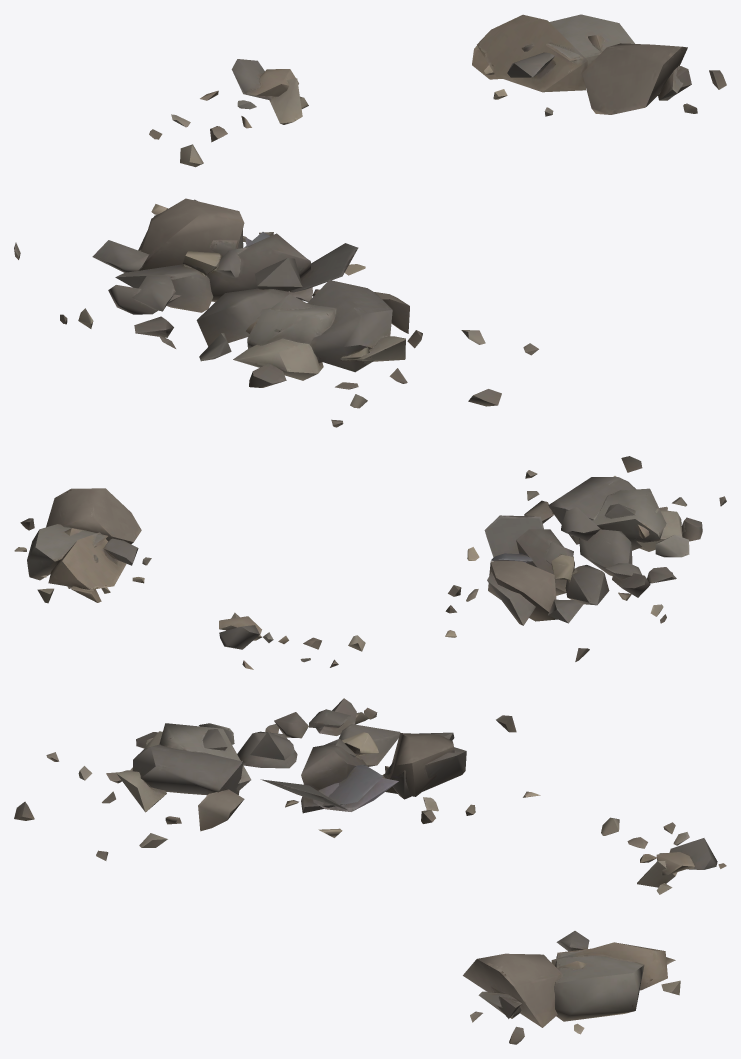
The model's file is rough-cave-1.hq.glb.
3 views of the same model, one above another, from view 1: azimuth 30°, elevation 25°; view 2: azimuth 150°, elevation 25°; view 3: azimuth 270°, elevation 25° (orthographic). The views are drawn at different scales.
Parts seen in each view (by area): view 1: rough-cave-1; view 2: rough-cave-1; view 3: rough-cave-1.
Part boxes in pixels (bbox=[...]): rough-cave-1: bbox=[14, 14, 726, 427]; rough-cave-1: bbox=[14, 456, 726, 669]; rough-cave-1: bbox=[14, 698, 726, 1044].
Size of the model in its own units: 1.87 by 0.1829 by 1.72.
Materials: 1 (1 with a texture image).
